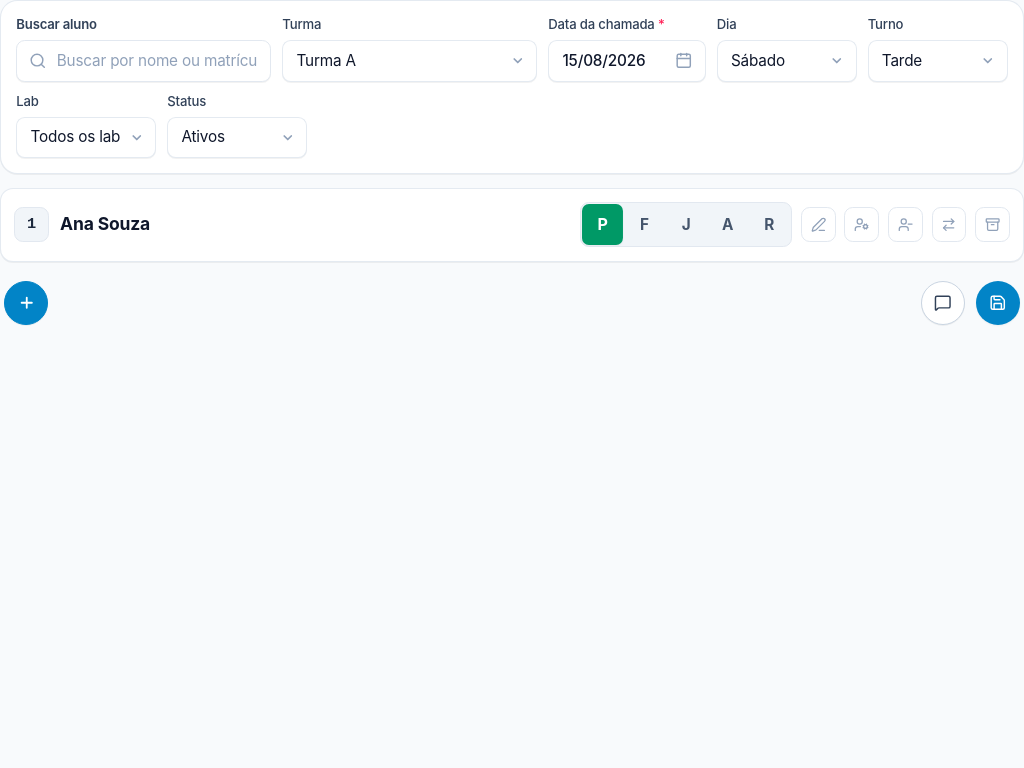
Test: AttendancePage › searches the unenrolled student list when adding a student to the class
Check: the text "Ana Souza" is shown, box [60,211,150,238]
Select "Turma A" in the dropdown labelled "Turma" at point(410, 61), box [282,40,537,82]
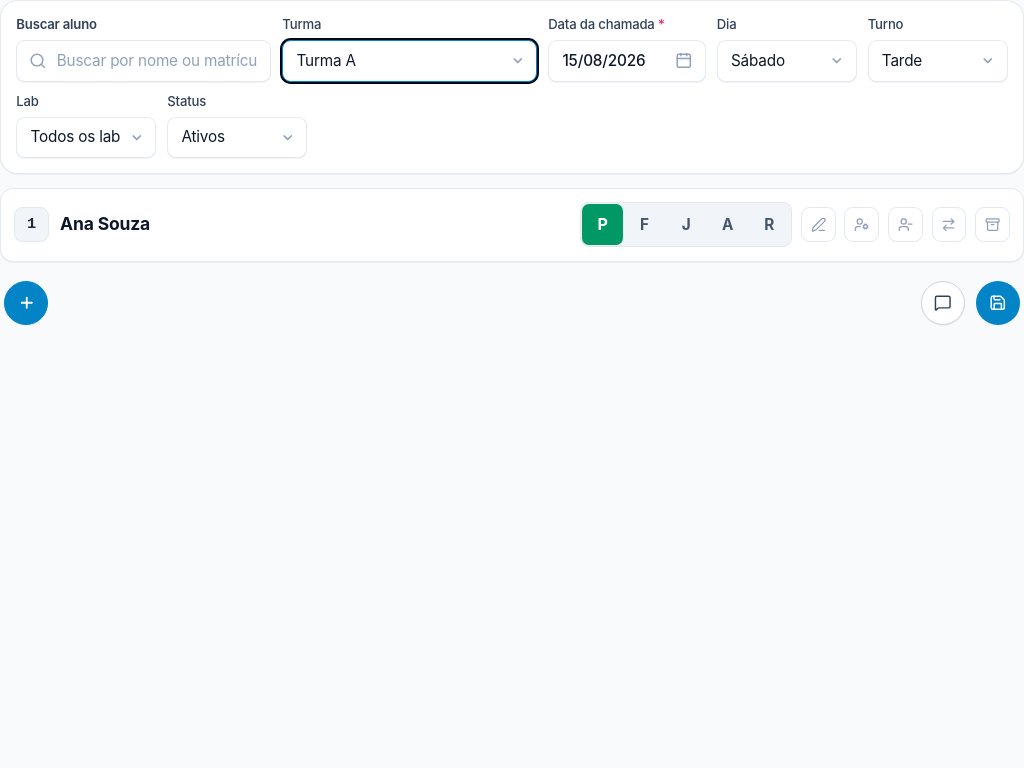
Click the button named "Incluir aluno na turma" at point(26, 303), box [4,281,48,325]
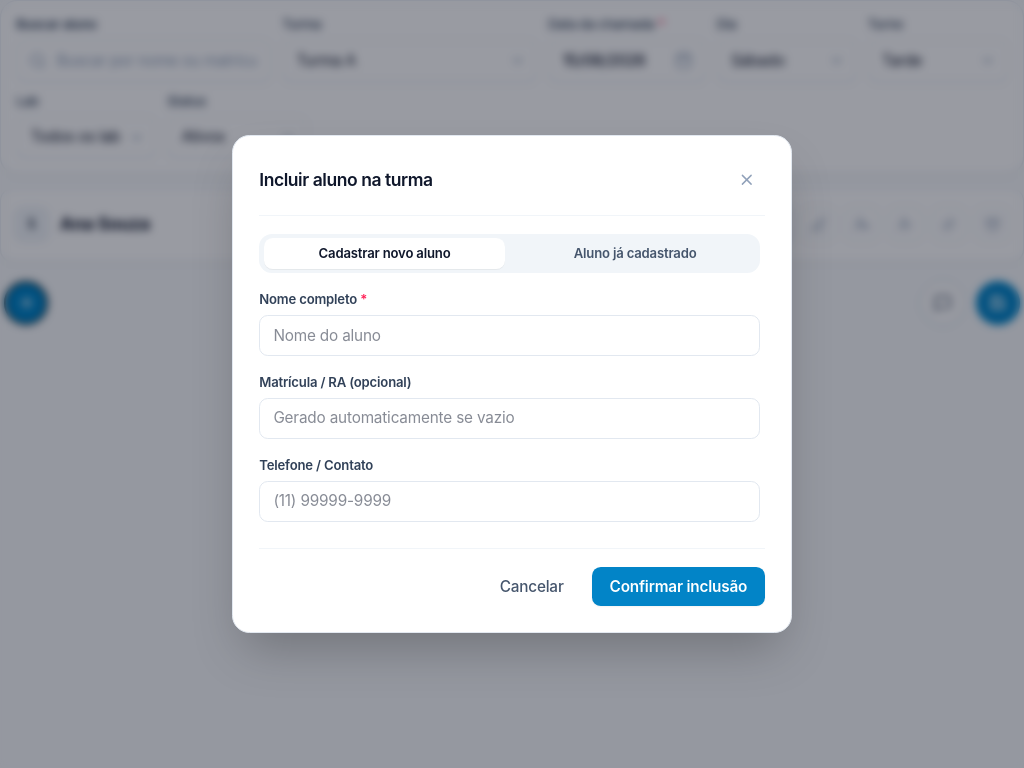
Click the button "Aluno já cadastrado" at point(635, 254), box [514,238,756,269]
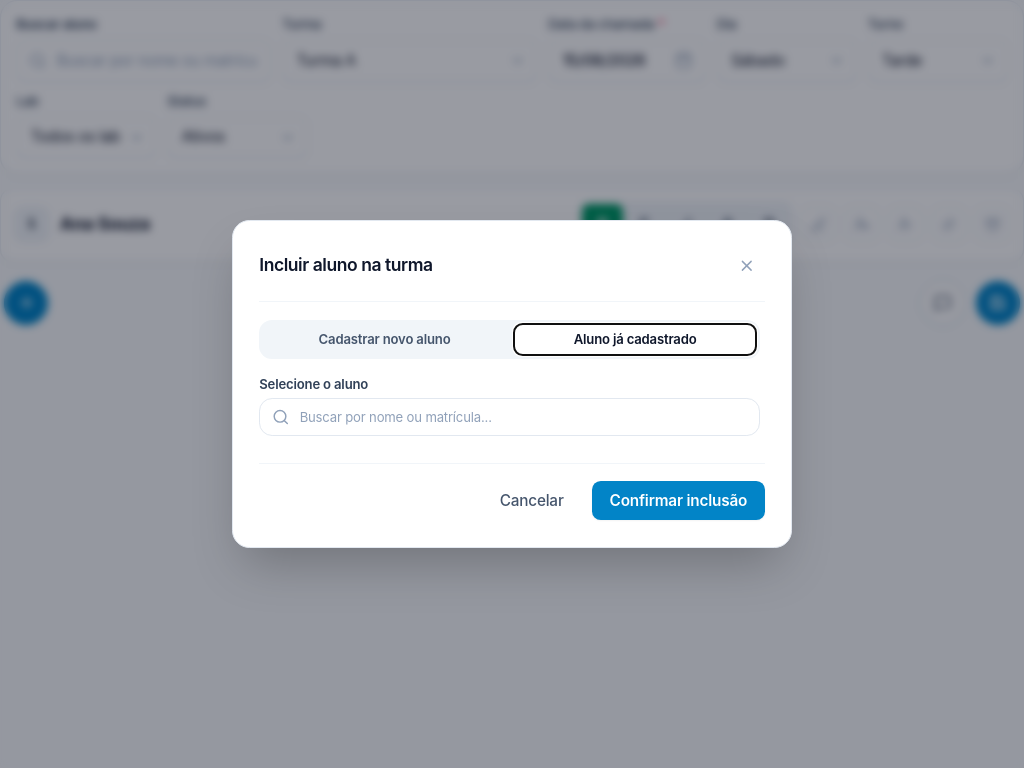
Type "002" into the dropdown with placeholder "Buscar por nome ou matrícula..." at point(510, 417), box [259,398,760,436]
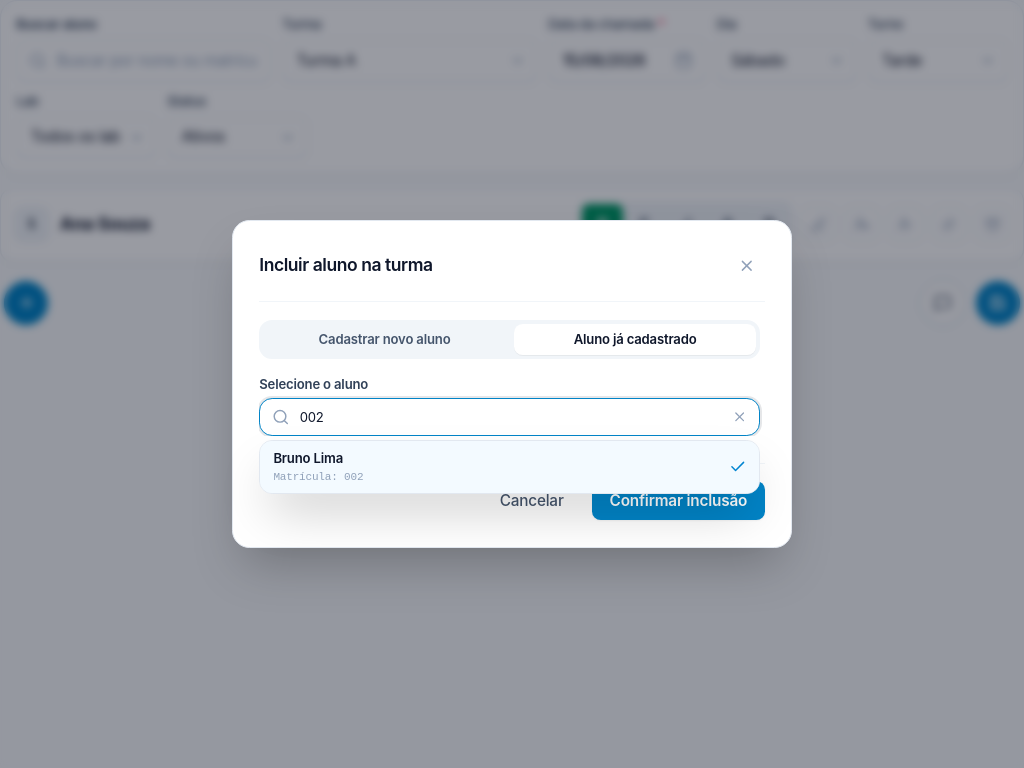
Check: the option "Bruno Lima Matrícula: 002" is shown, box [260,441,759,493]
